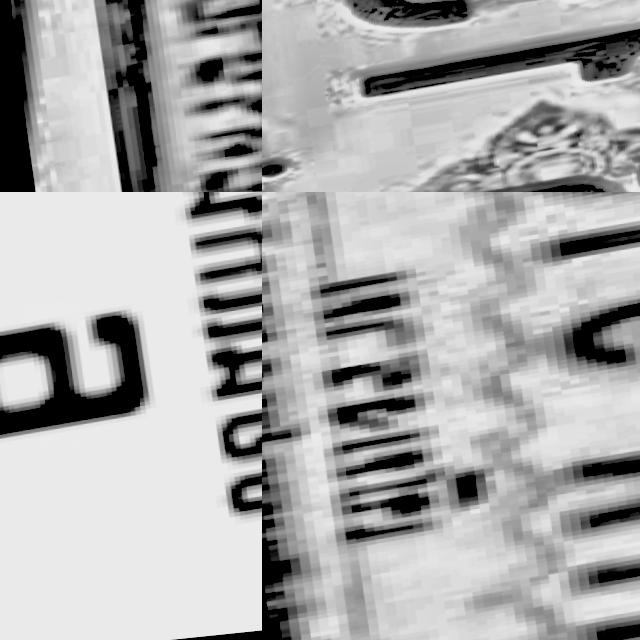license-plate: (262, 192, 640, 640), (0, 192, 262, 640), (262, 0, 640, 192), (70, 0, 262, 192)
